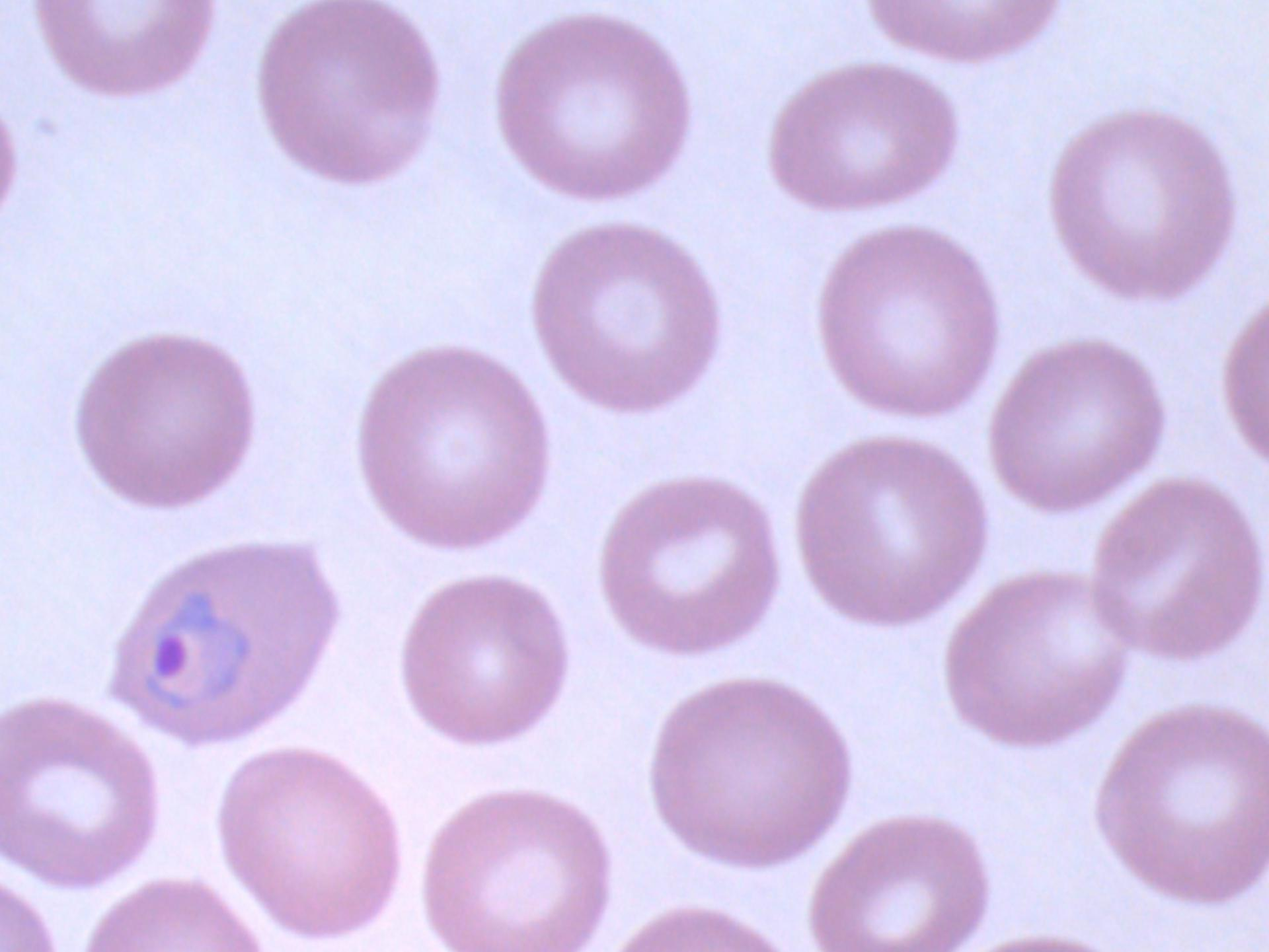Infected: (108, 539, 343, 746)
Uninfected: (654, 679, 852, 870), (360, 349, 547, 549), (796, 436, 987, 623), (1054, 109, 1234, 301), (1097, 707, 1269, 907), (534, 222, 717, 407), (501, 19, 687, 199), (259, 0, 434, 184), (942, 573, 1128, 745), (220, 755, 400, 932), (821, 230, 996, 412), (1087, 474, 1258, 658), (421, 790, 611, 951), (605, 478, 774, 654), (76, 336, 247, 508), (988, 342, 1160, 508), (0, 697, 151, 879), (400, 575, 565, 739), (773, 65, 956, 210), (813, 818, 985, 952)
